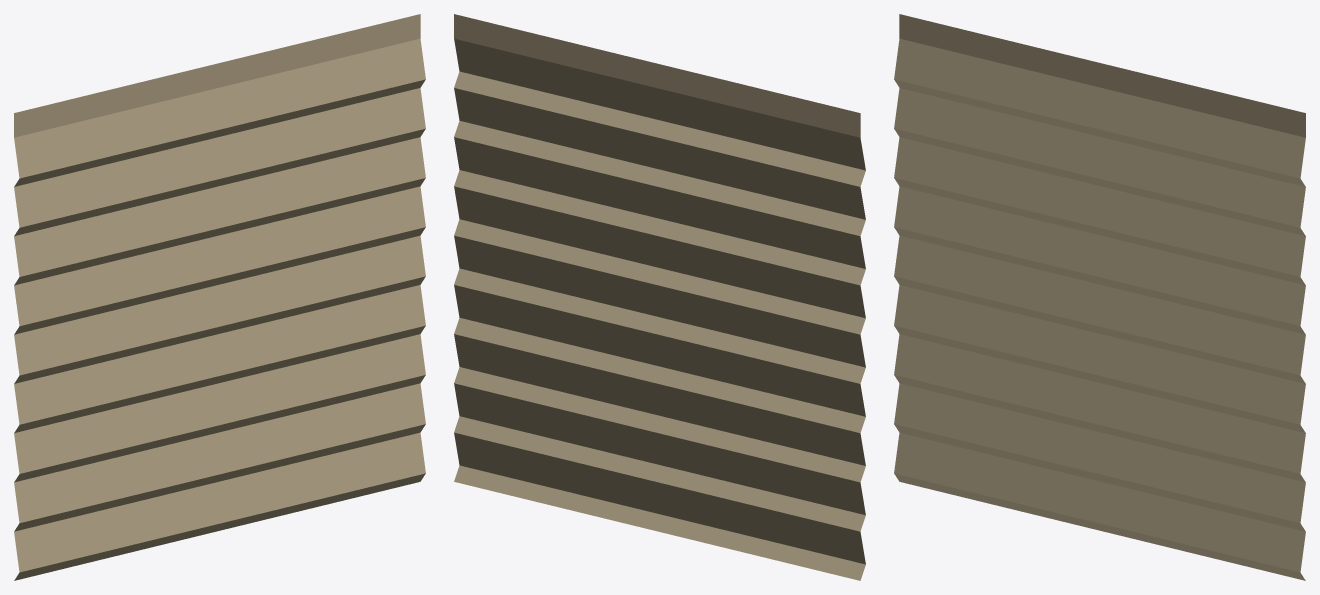
The model's file is Gate.fbx.
The picture shows the model from 3 angles, left to right: view 1: azimuth 30°, elevation 25°; view 2: azimuth 150°, elevation 25°; view 3: azimuth 330°, elevation 25°; orthographic projection.
Parts seen in each view (by area): view 1: building wall border 3; view 2: building wall border 3; view 3: building wall border 3.
Part boxes in pixels (x1,y1,x2,y2): building wall border 3: [14, 14, 425, 580]; building wall border 3: [454, 14, 865, 580]; building wall border 3: [894, 14, 1305, 580].
Bounding box in the file's own units: 180 × 198 × 4.17.
